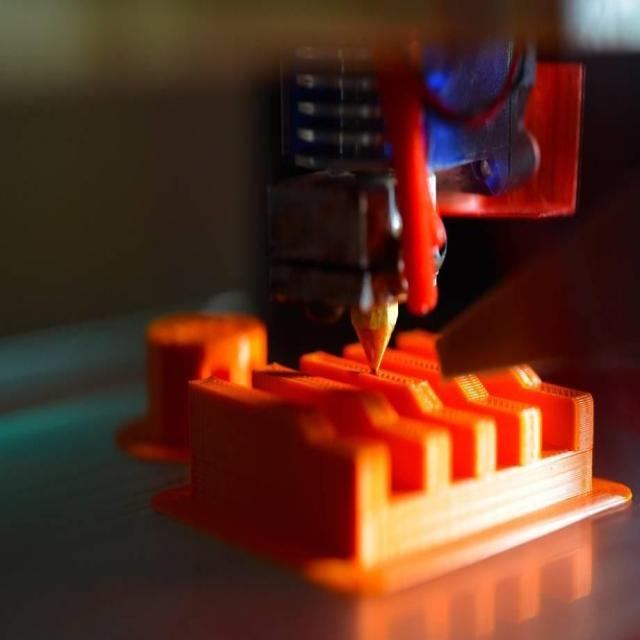Without deffect: (137, 291, 636, 592)
